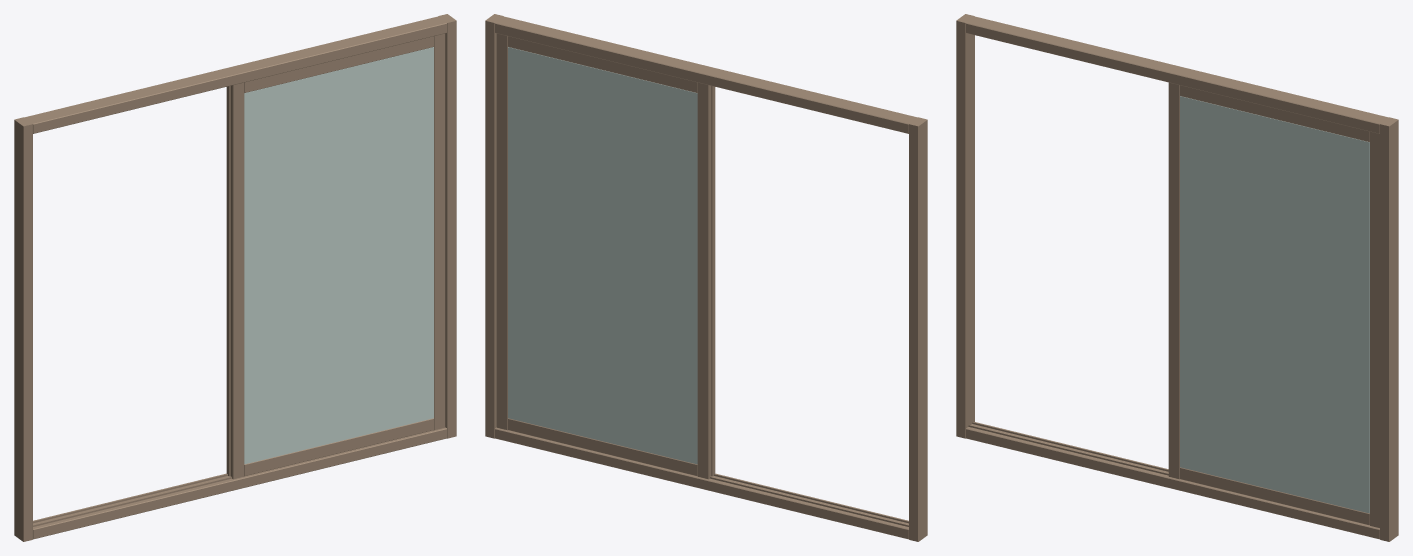
The model's file is co-S90RP-2-quartz-1019-ouvert.glb.
3 views of the same model, side by side, from view 1: azimuth 30°, elevation 25°; view 2: azimuth 150°, elevation 25°; view 3: azimuth 330°, elevation 25° (orthographic).
Visible parts, largest first — view 1: verre, structure; view 2: verre, structure; view 3: verre, structure.
Part boxes in pixels (<box>): verre: <box>244,47,433,464</box>; structure: <box>14,14,456,541</box>; verre: <box>508,47,697,464</box>; structure: <box>485,14,927,541</box>; verre: <box>1180,96,1369,513</box>; structure: <box>956,14,1398,541</box>.
Size of the model in its own units: 2.4 by 2.2 by 0.09.
